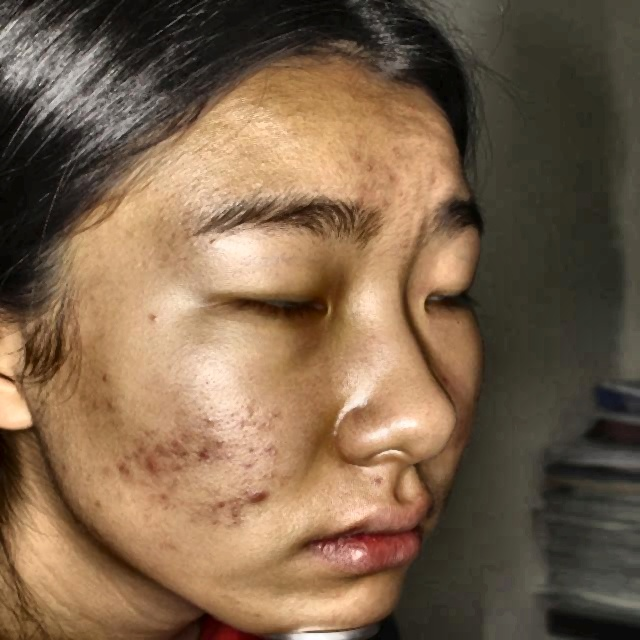pustule: (164, 428, 194, 459), (112, 449, 133, 486), (207, 499, 234, 527), (198, 436, 220, 464), (251, 486, 273, 511), (142, 459, 160, 482)
